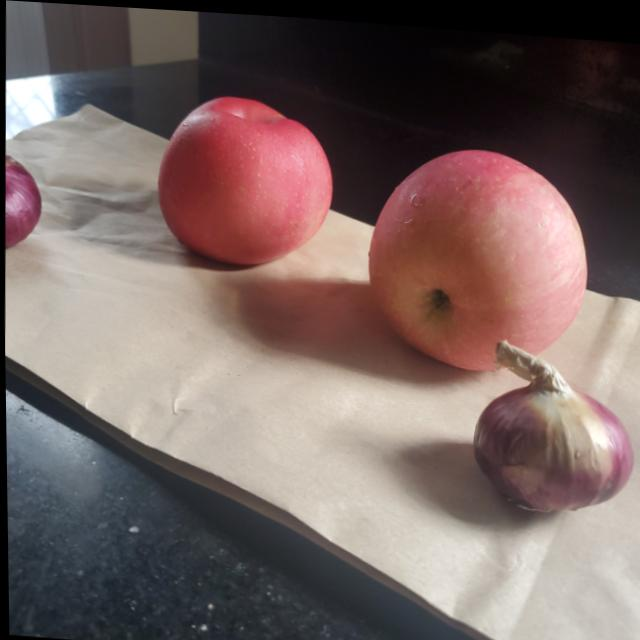apple: (363, 140, 588, 375), (158, 86, 338, 266)
onion: (470, 334, 637, 512), (3, 152, 40, 254)
